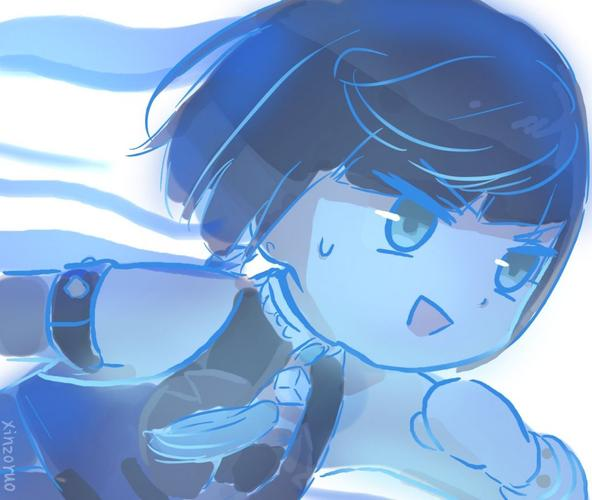夜兰: (1, 4, 587, 499)
